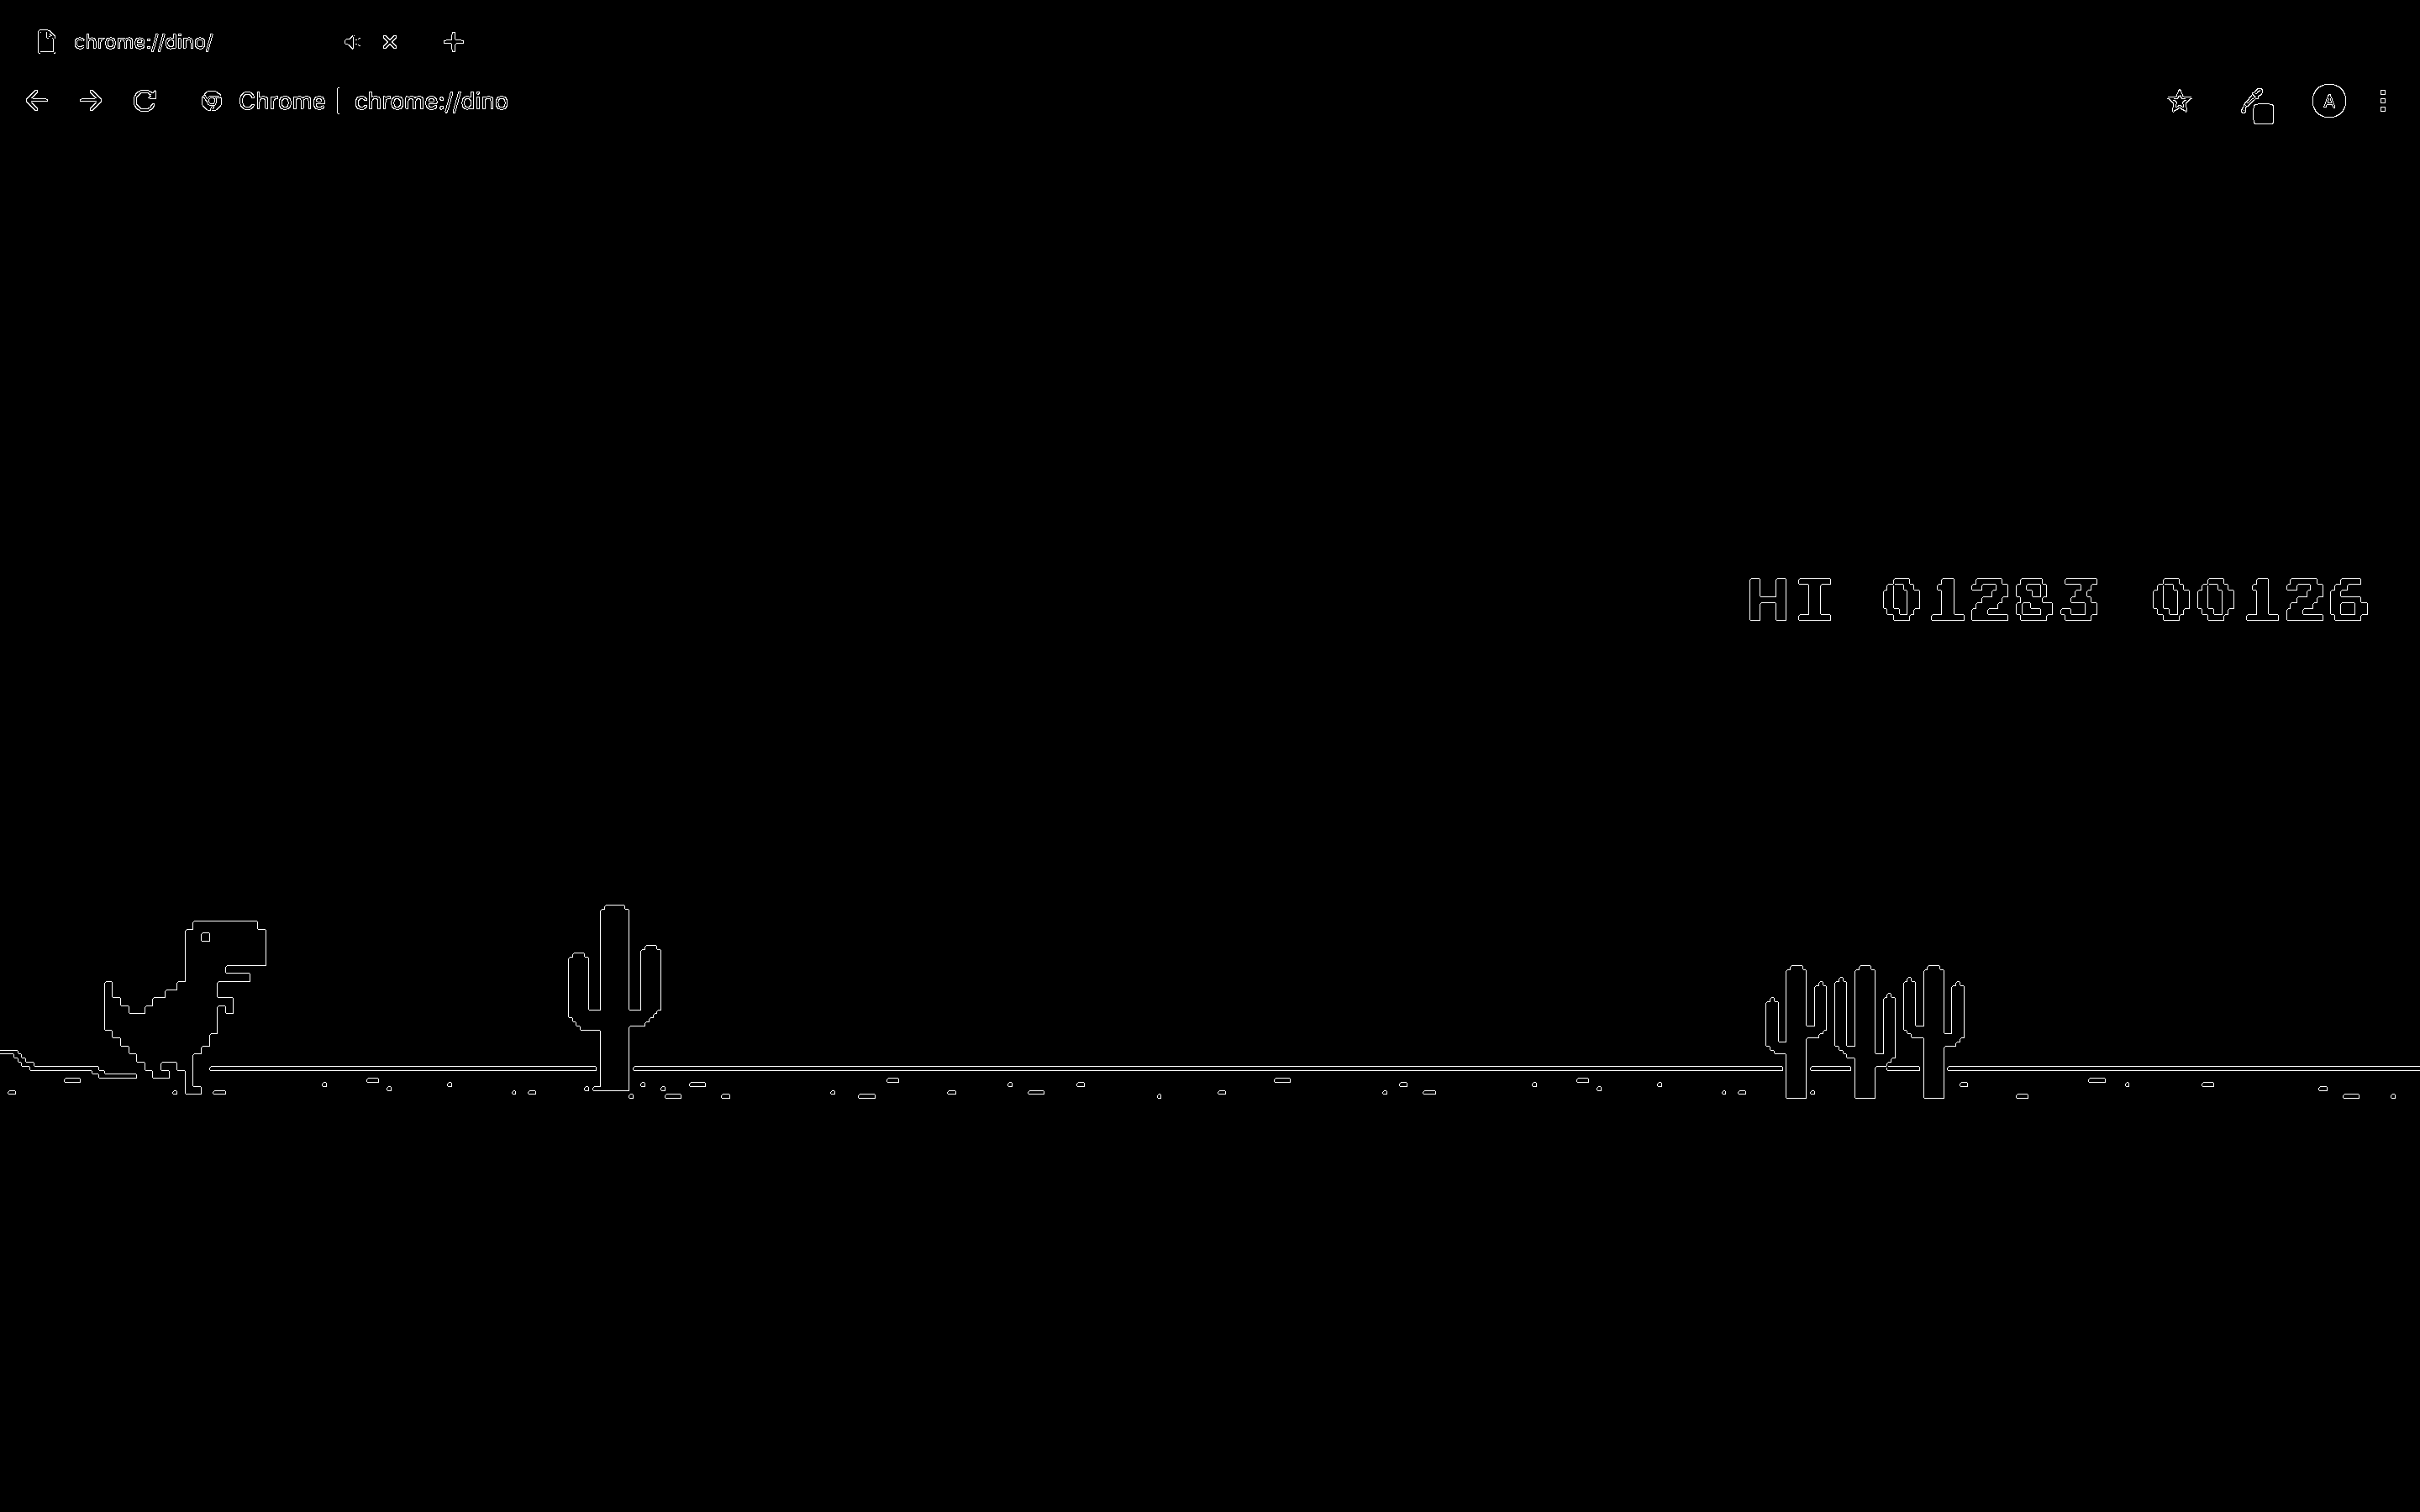Cactus: (558, 904, 683, 1090), (1910, 969, 1986, 1117), (1836, 967, 1908, 1113), (1758, 963, 1828, 1106)
Dino: (92, 909, 279, 1101)
